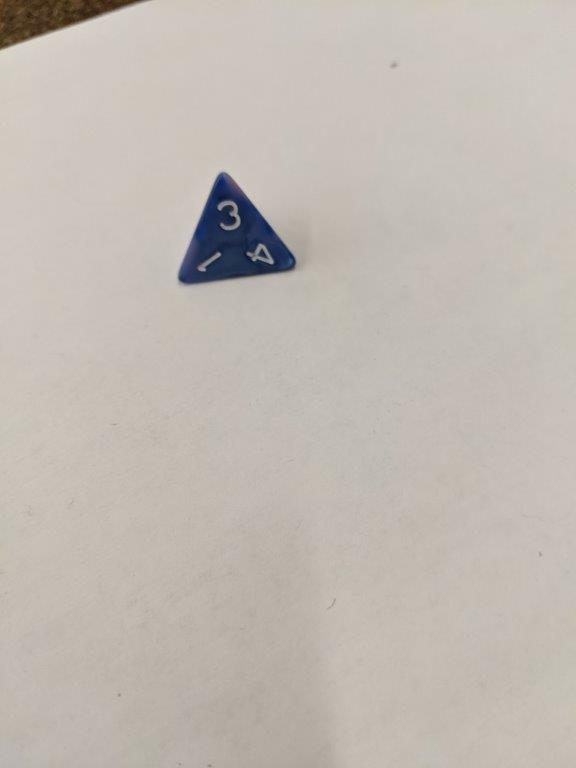d4-3: (170, 168, 300, 287)
